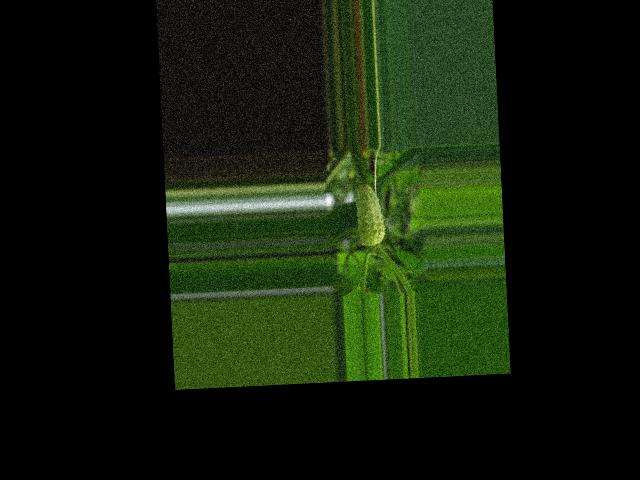cucumber: (355, 180, 386, 246)
